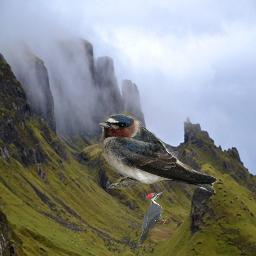Swallow: (96, 113, 218, 193)
Woodpecker: (137, 190, 167, 243)
